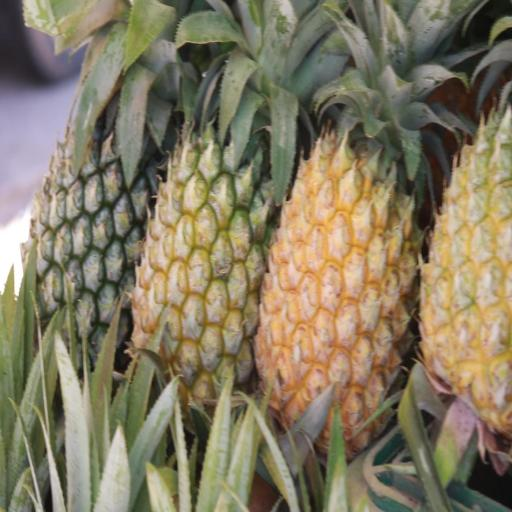------------------------------: (126, 42, 283, 424)
Pineapple - v8 v1: (252, 26, 417, 466), (414, 8, 512, 434)
